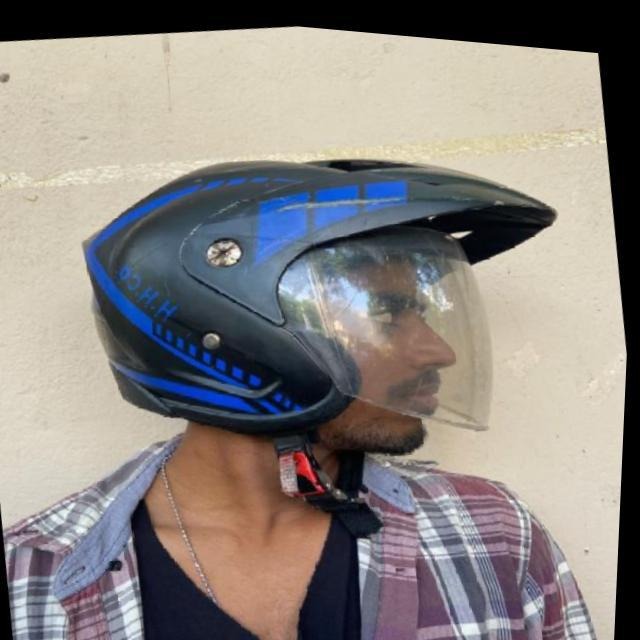with_helmet: (81, 152, 561, 480)
